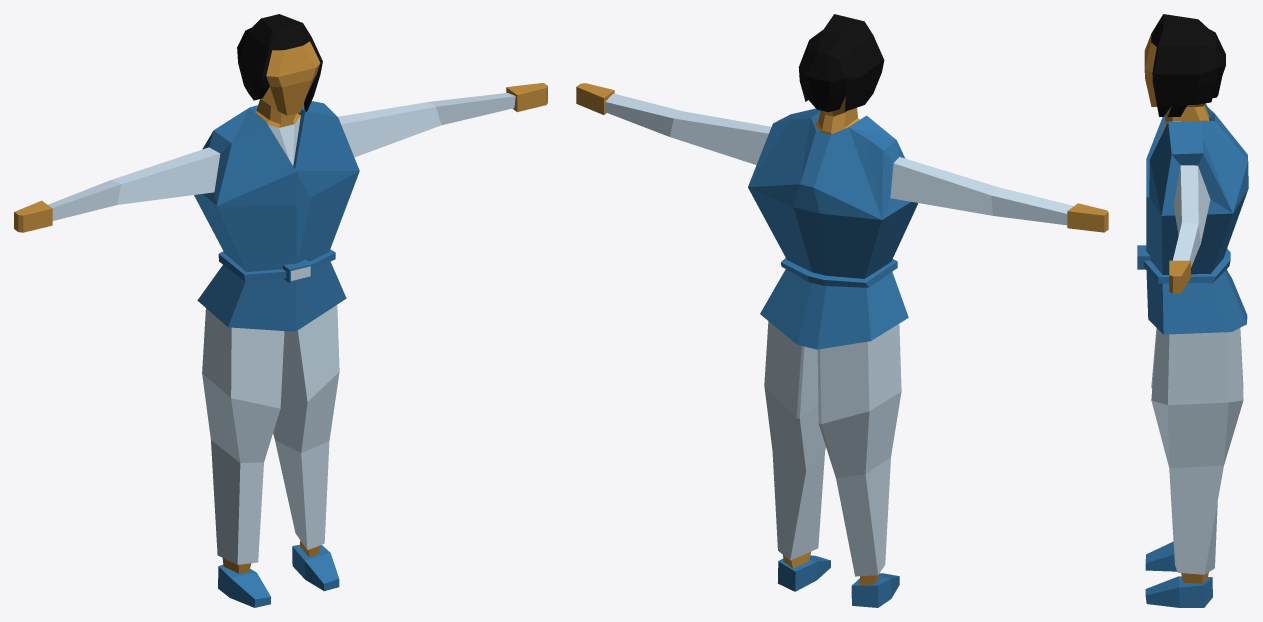
File: Waterbender2.obj
3 renders of one model, left to right at view 1: azimuth 30°, elevation 25°; view 2: azimuth 150°, elevation 25°; view 3: azimuth 270°, elevation 25°, orthographic.
Visible parts, largest first — view 1: Waterbender; view 2: Waterbender; view 3: Waterbender.
Part boxes in pixels (x1=…): Waterbender: x1=14, y1=14, x2=547, y2=607; Waterbender: x1=576, y1=14, x2=1108, y2=607; Waterbender: x1=1137, y1=14, x2=1248, y2=607.
Bounding box in the file's own units: 1.64 × 1.67 × 0.2987.
